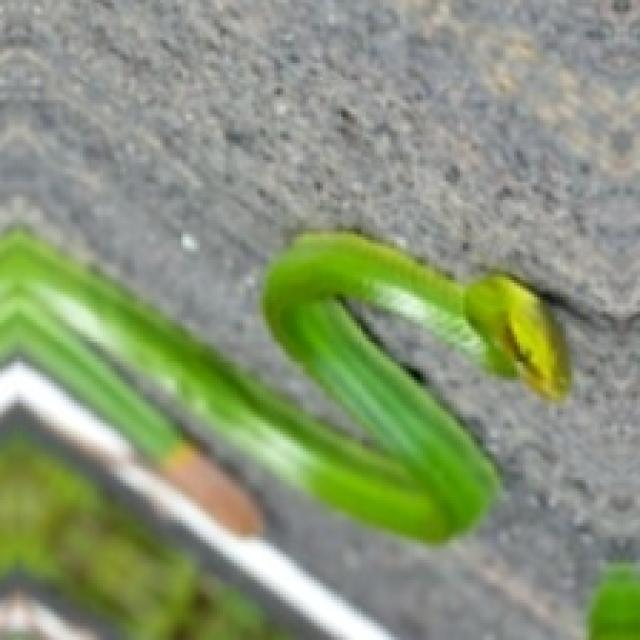red-tailed green ratsnake: (0, 232, 570, 542)
